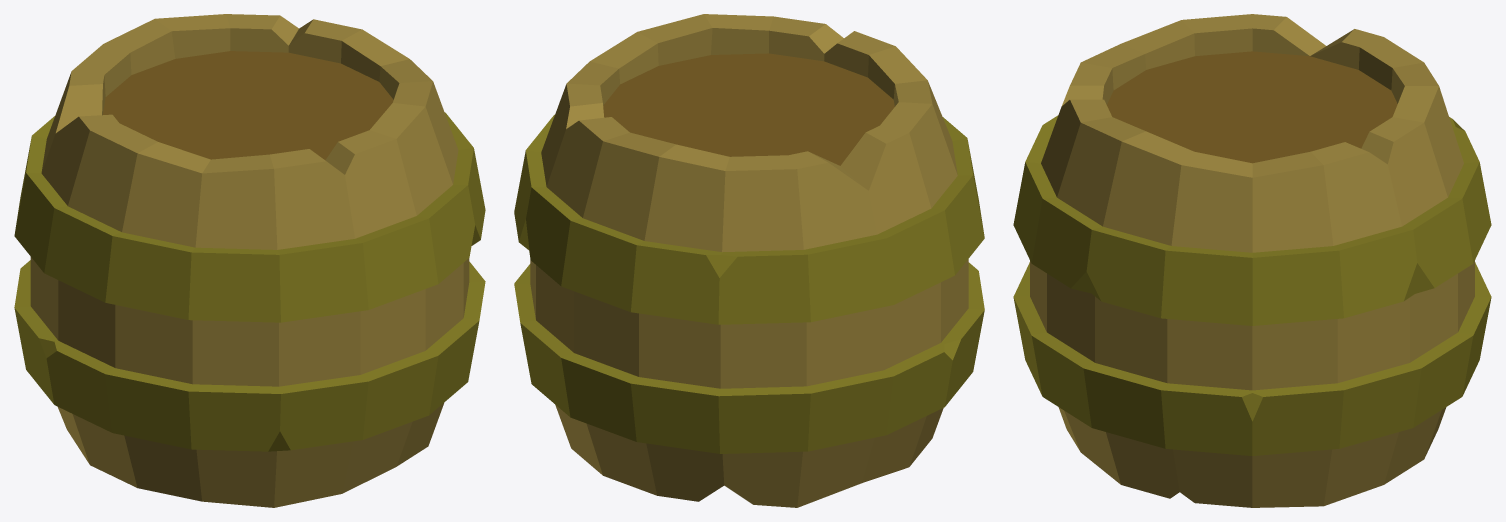
The model's file is barrel3.fbx.
3 views of the same model, side by side, from view 1: azimuth 30°, elevation 25°; view 2: azimuth 150°, elevation 25°; view 3: azimuth 270°, elevation 25° (orthographic).
Parts seen in each view (by area): view 1: Cylinder; view 2: Cylinder; view 3: Cylinder.
Part boxes in pixels (x1,y1,x2,y2): Cylinder: (14, 14, 485, 507); Cylinder: (514, 14, 984, 507); Cylinder: (1013, 14, 1491, 507).
Bounding box in the file's own units: 257 × 206 × 257.
